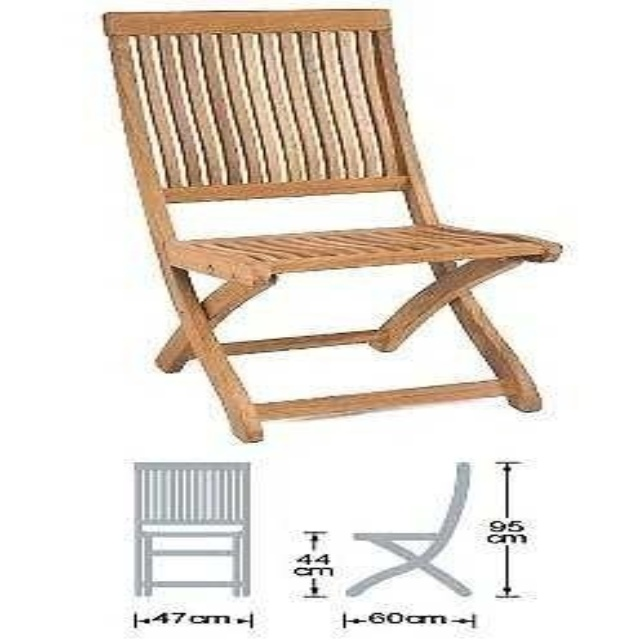obstacle: (106, 9, 557, 441)
